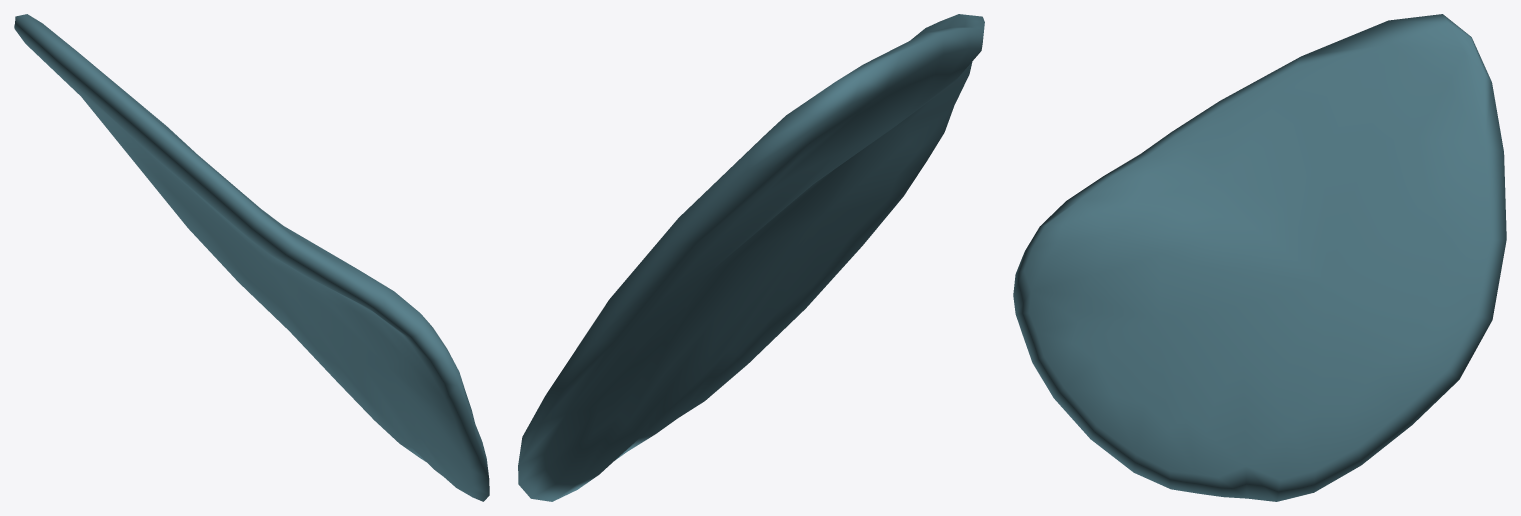
File: Fibularis_tertius_5th_metatarsal_tuberosity_left.glb
The picture shows the model from 3 angles, left to right: view 1: azimuth 30°, elevation 25°; view 2: azimuth 150°, elevation 25°; view 3: azimuth 270°, elevation 25°; orthographic projection. The views are drawn at different scales.
Parts seen in each view (by area): view 1: Fibularis_tertius_on_tuberosity_of_fifth_metatarsal_bone.l_G; view 2: Fibularis_tertius_on_tuberosity_of_fifth_metatarsal_bone.l_G; view 3: Fibularis_tertius_on_tuberosity_of_fifth_metatarsal_bone.l_G.
Part boxes in pixels (bbox=[...]): Fibularis_tertius_on_tuberosity_of_fifth_metatarsal_bone.l_G: bbox=[14, 14, 489, 501]; Fibularis_tertius_on_tuberosity_of_fifth_metatarsal_bone.l_G: bbox=[518, 14, 984, 501]; Fibularis_tertius_on_tuberosity_of_fifth_metatarsal_bone.l_G: bbox=[1013, 14, 1506, 501].
Size of the model in its own units: 0.00582 by 0.00809 by 0.0099.
